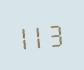one: (34, 20, 48, 49), (18, 22, 32, 50)
three: (49, 19, 63, 48)
